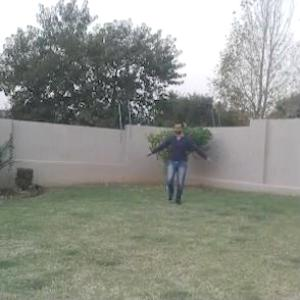land: (144, 98, 220, 220)
